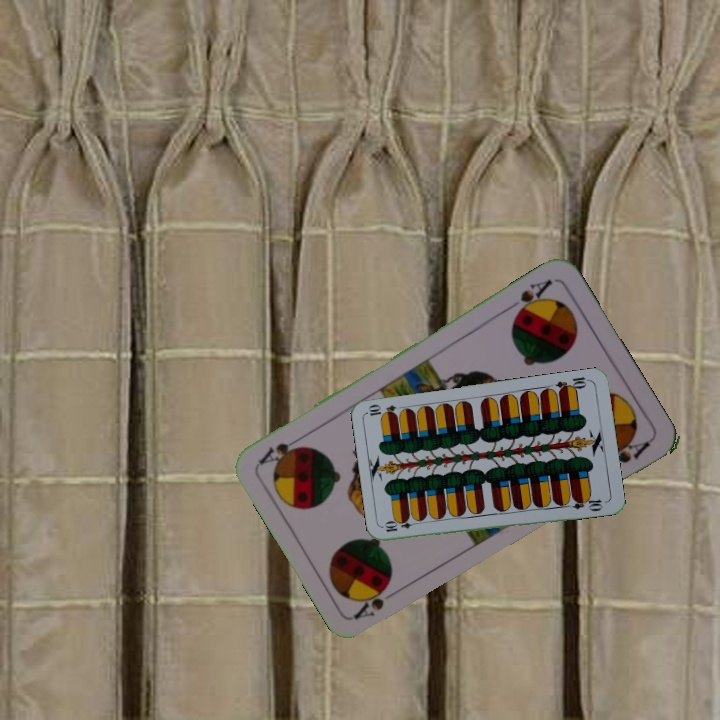E10: (552, 373, 592, 395), (381, 516, 421, 535)
SA: (502, 275, 555, 321), (350, 585, 390, 622)
